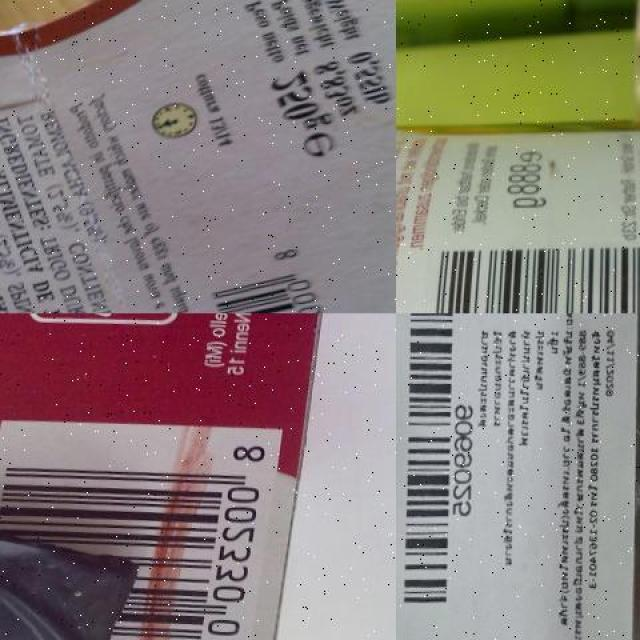Barcode: (0, 412, 283, 640), (396, 314, 476, 634), (425, 238, 640, 314), (192, 235, 384, 313)
